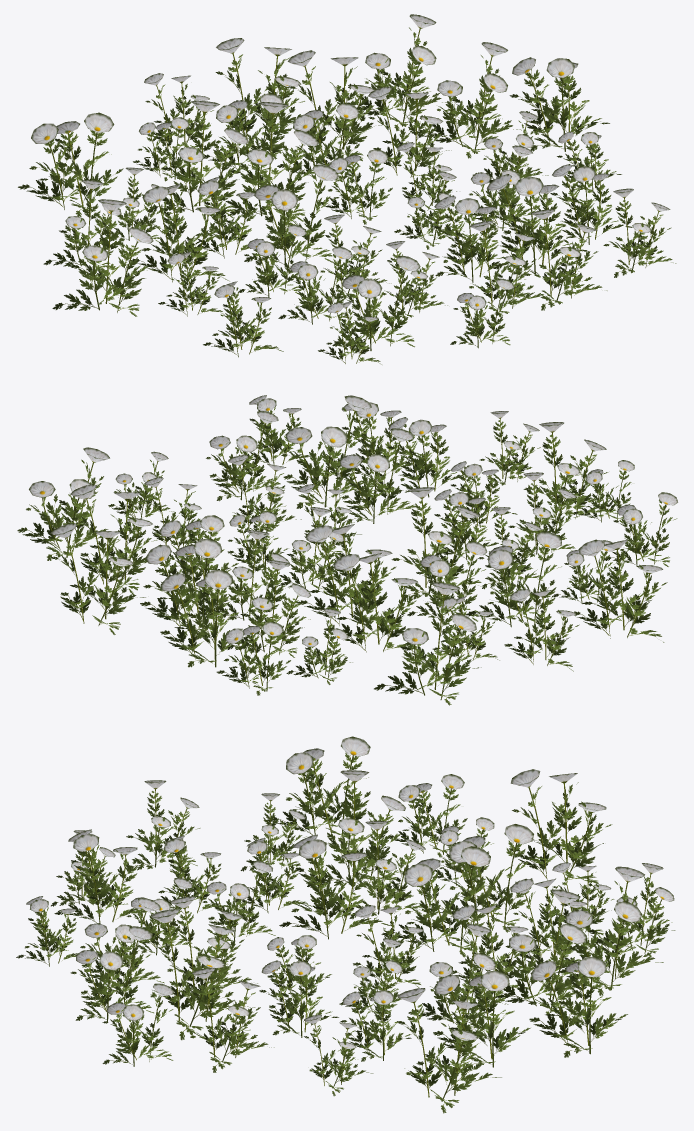
Rendered from Daisies.fbx.
3 renders of one model, top to bottom at view 1: azimuth 30°, elevation 25°; view 2: azimuth 150°, elevation 25°; view 3: azimuth 270°, elevation 25°, orthographic. The views are drawn at different scales.
Parts seen in each view (by area): view 1: daisy leaf_2, flower daisy_1, plant05_0; view 2: daisy leaf_2, flower daisy_1, plant05_0; view 3: daisy leaf_2, flower daisy_1, plant05_0.
Boxes of the visible parts, x1,y1,x2,y2 form: daisy leaf_2: (18, 27, 676, 364); flower daisy_1: (31, 14, 670, 321); plant05_0: (48, 27, 660, 363); daisy leaf_2: (17, 406, 677, 705); flower daisy_1: (29, 395, 678, 646); plant05_0: (42, 410, 665, 699); daisy leaf_2: (16, 752, 675, 1113); flower daisy_1: (26, 736, 674, 1048); plant05_0: (39, 755, 662, 1101).
Bounding box in the file's own units: 629 × 101 × 561.
Materials: 3 (3 with a texture image).
